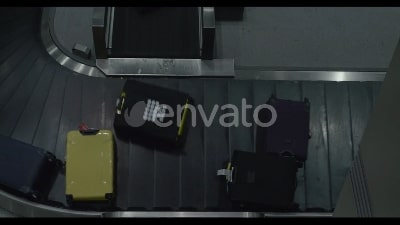baggage: (110, 80, 198, 149), (212, 148, 305, 210), (59, 125, 118, 204), (1, 124, 59, 200), (255, 95, 311, 164)
